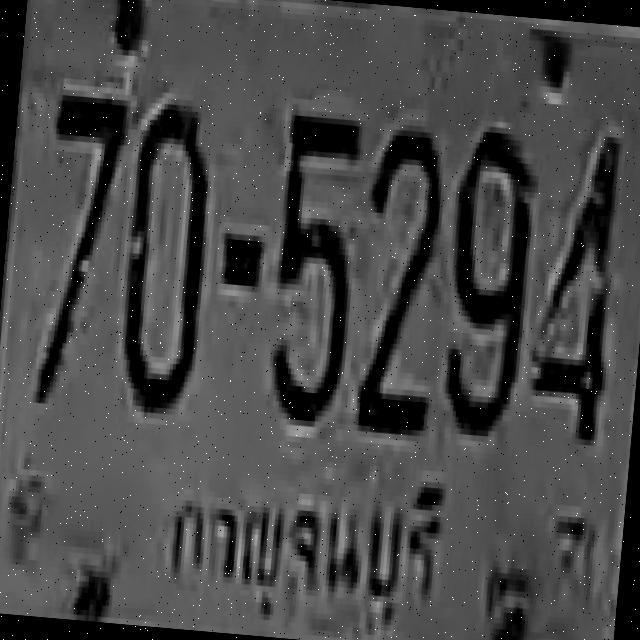0: (114, 99, 216, 412)
2: (350, 120, 450, 433)
4: (526, 126, 625, 446)
5: (262, 109, 362, 422)
7: (30, 89, 130, 408)
9: (437, 122, 538, 436)
Kanchanaburi: (150, 452, 455, 634)
